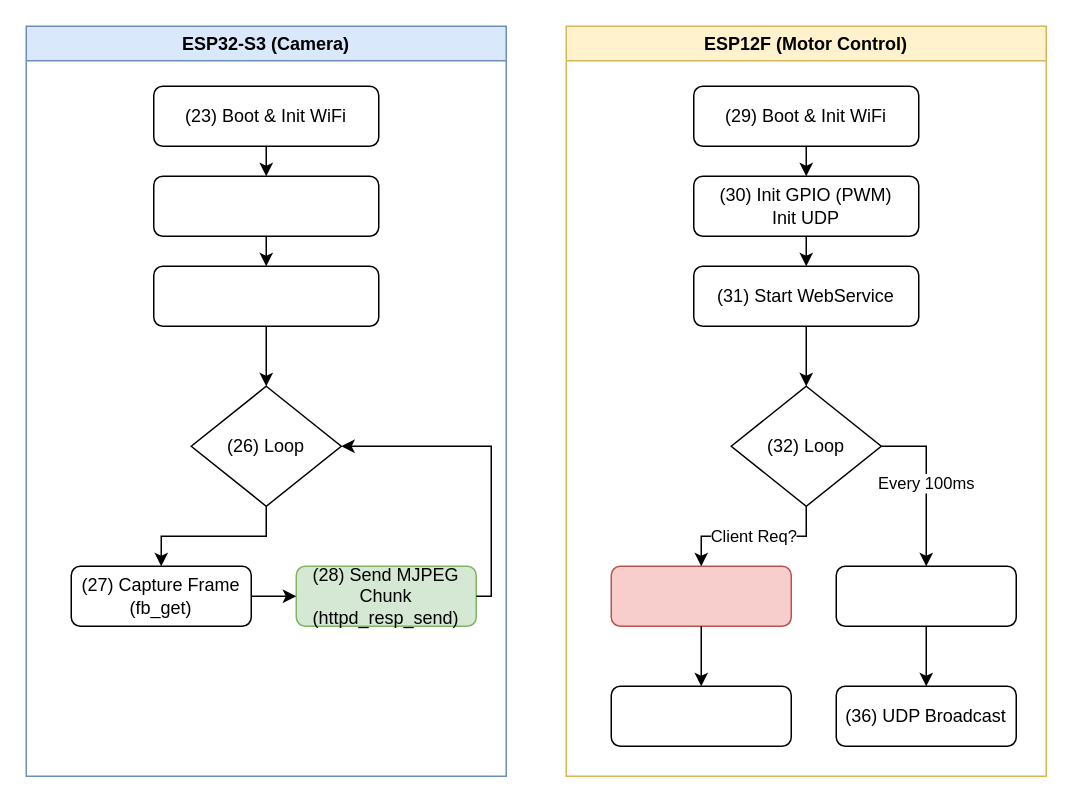
Image size: 1073x803. Some labels were removed from this diagram. The shapes that lost their labels are listed below. From the top down, each one's centre as x and y in pixels, then its label:
At (x=265, y=205): "(24) Config Camera (OV2640/5640)".
At (x=265, y=295): "(25) Start HTTP Server (Port 80/81)".
At (x=700, y=595): "(33) Handle Request /cmd?kw=val".
At (x=925, y=595): "(35) Read Sonar (PulseIn)".
At (x=700, y=715): "(34) Write PWM (analogWrite)".
